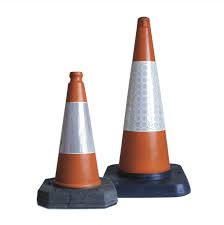cones: (110, 17, 192, 198), (38, 74, 121, 211)
